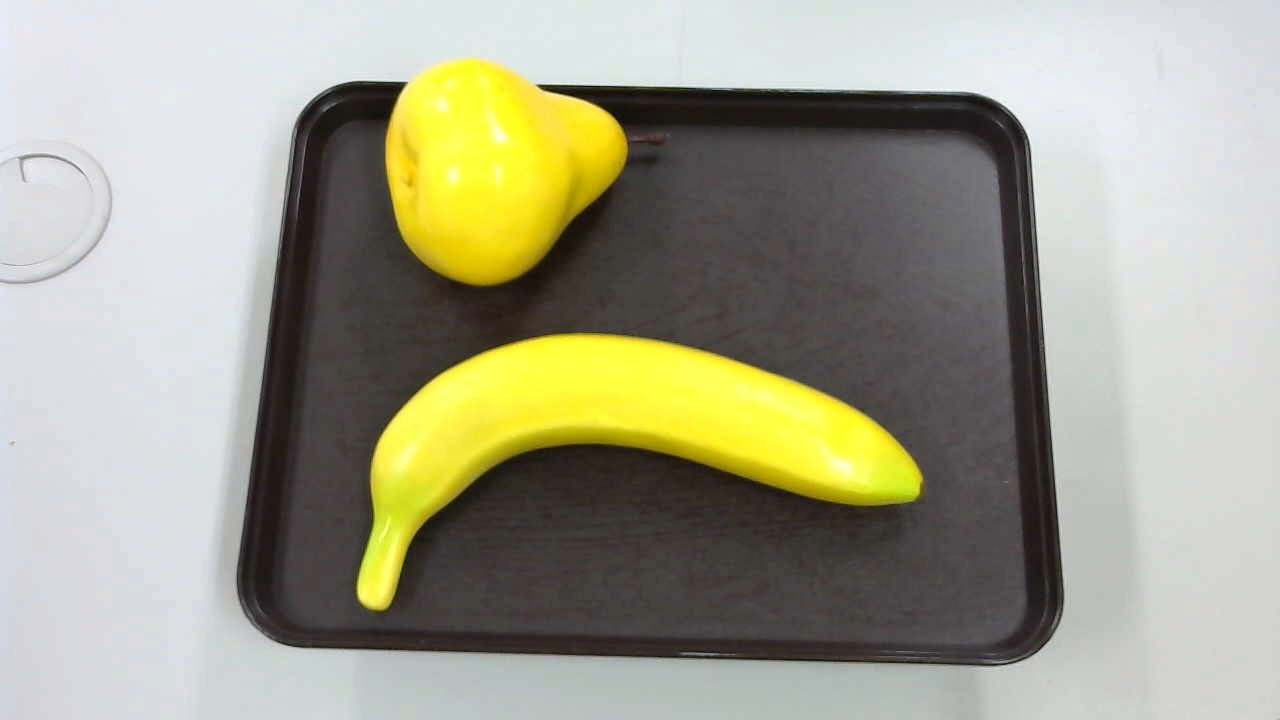banana: (351, 320, 928, 621)
yellow pear: (387, 55, 682, 283)
